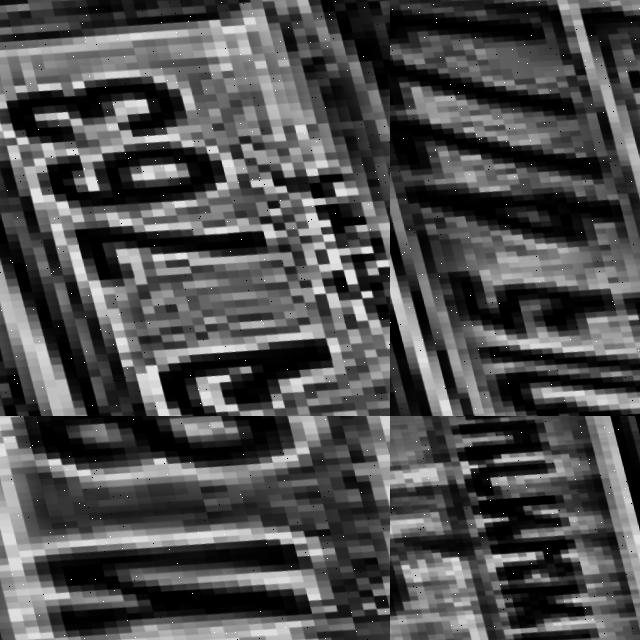license-plate: (0, 0, 390, 416), (390, 0, 640, 416), (0, 416, 390, 640), (390, 416, 640, 640)
